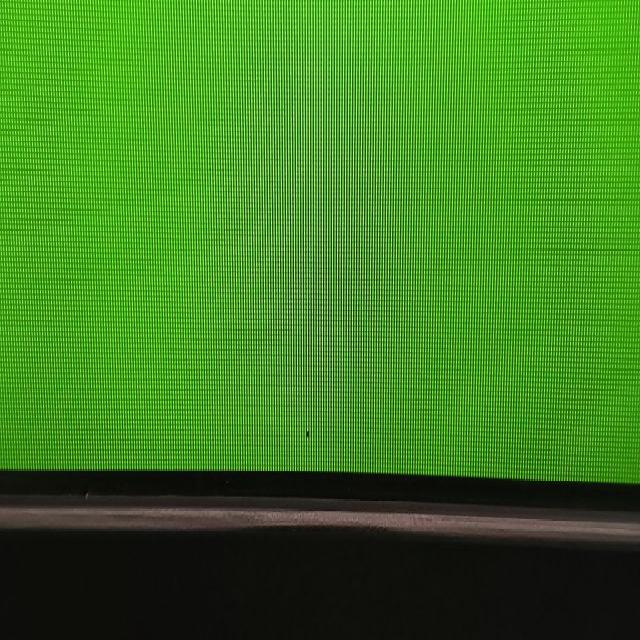Dead pixel: (306, 431, 309, 437)
